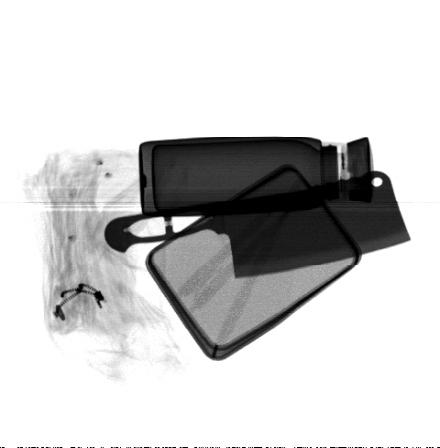Knife: (103, 168, 413, 281)
